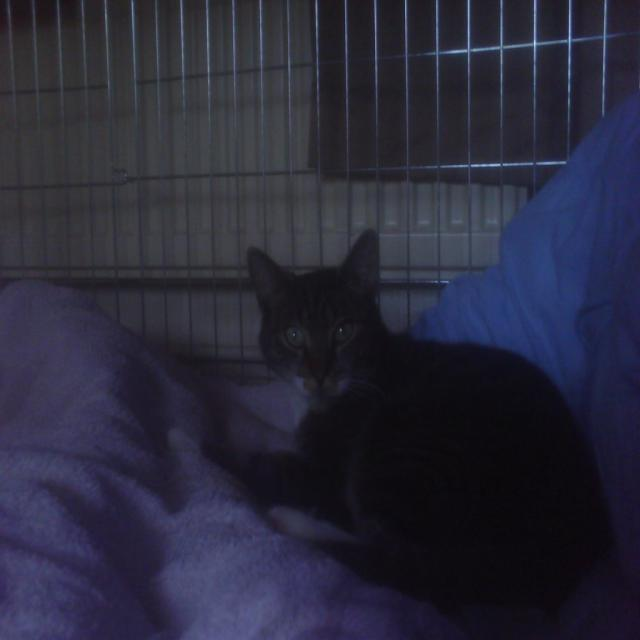Cat: (218, 212, 625, 616)
